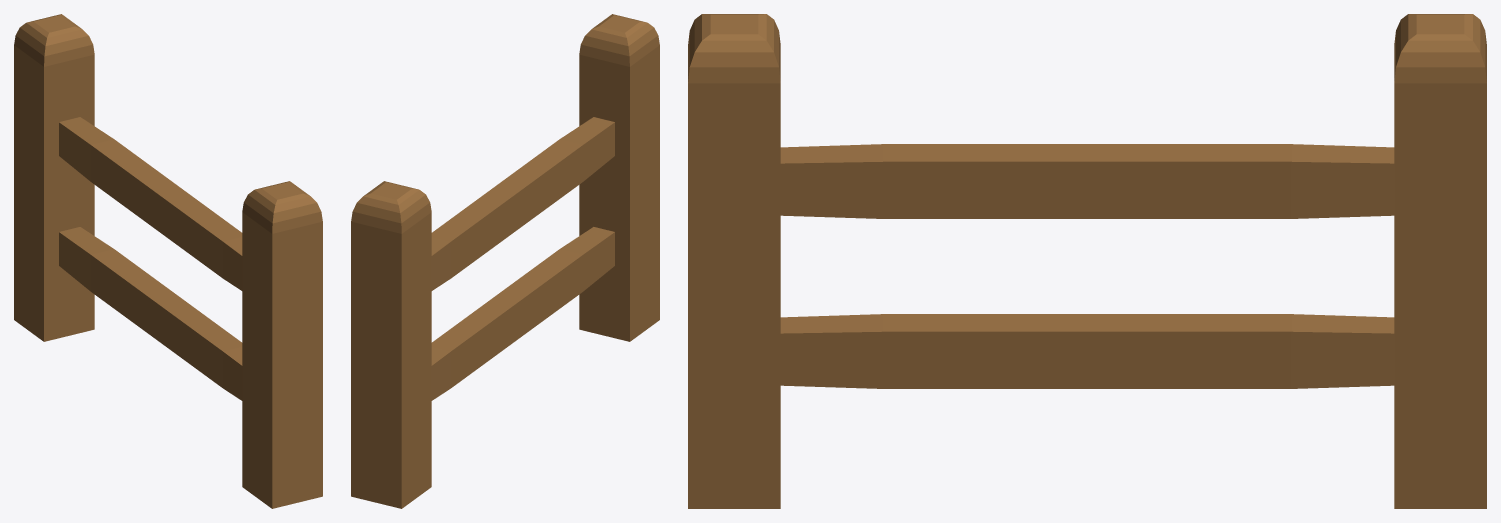
File: Fencesmall 1.fbx
The picture shows the model from 3 angles, left to right: view 1: azimuth 30°, elevation 25°; view 2: azimuth 150°, elevation 25°; view 3: azimuth 270°, elevation 25°; orthographic projection. The views are drawn at different scales.
Visible parts, largest first — view 1: Cube.004; view 2: Cube.004; view 3: Cube.004.
Boxes of the visible parts, x1,y1,x2,y2 form: Cube.004: (14, 14, 322, 508); Cube.004: (351, 14, 659, 508); Cube.004: (688, 14, 1486, 508).
Bounding box in the file's own units: 10.09 × 57.21 × 88.99.
